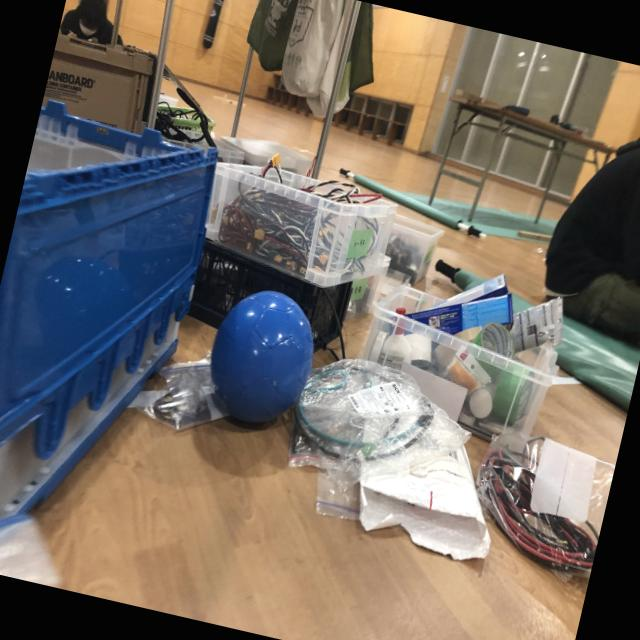blue_ball: (197, 279, 336, 437)
